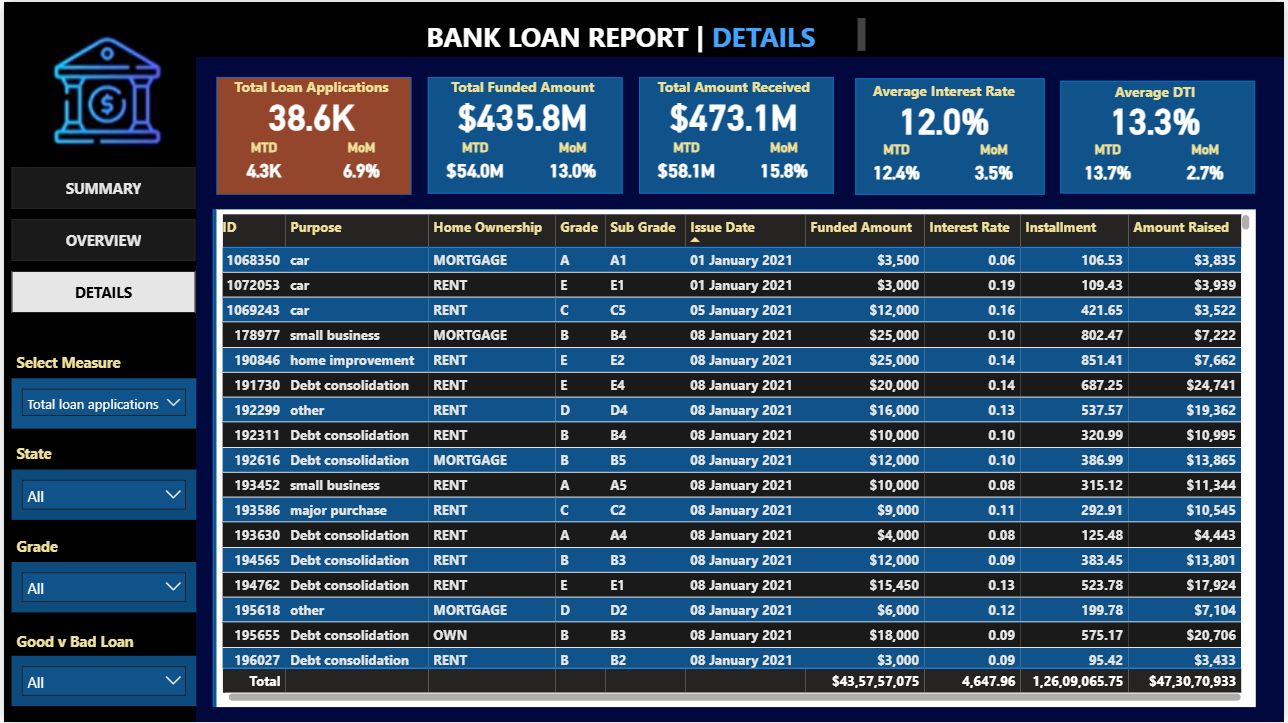

What the dashboard file says about the page in this screenshot:
{"tool":"powerbi","page":{"name":"DETAILS","canvas":[1280,720],"ordinal":2},"visuals":[{"type":"shape","box":[0,54.9,192,665.5],"z":0},{"type":"shape","box":[212.2,74.5,194.9,118],"z":0,"group":"g1"},{"type":"shape","box":[423.2,75,194.9,116.6],"z":0,"group":"g2"},{"type":"shape","box":[634.2,75,194.9,116.6],"z":0,"group":"g3"},{"type":"shape","box":[851.1,76.2,189.4,116.6],"z":0,"group":"g4"},{"type":"shape","box":[1056.2,79.8,194.9,112.7],"z":0,"group":"g5"},{"type":"shape","box":[0,0,1280.3,55],"z":1000},{"type":"card","fields":{"Values":["Bank_Loan_Data.Total_loan_applications"]},"box":[209.9,86.7,194.9,54.1],"z":1000,"group":"g1"},{"type":"card","fields":{"Values":["Bank_Loan_Data.Total Funded Amount"]},"box":[420.9,87,194.9,53.5],"z":1000,"group":"g2"},{"type":"card","fields":{"Values":["Bank_Loan_Data.Total Amount Raised"]},"box":[631.9,87,194.9,53.5],"z":1000,"group":"g3"},{"type":"card","fields":{"Values":["Bank_Loan_Data.Average Interest Rate"]},"box":[842.9,90.4,194.9,52.9],"z":1000,"group":"g4"},{"type":"card","fields":{"Values":["Bank_Loan_Data.Average DTI"]},"box":[1053.9,91.4,194.9,51.7],"z":1000,"group":"g5"},{"type":"textbox","box":[417.2,11,448.7,43.9],"z":2000},{"type":"textbox","box":[209.9,70,194.9,31.9],"z":2000,"group":"g1"},{"type":"textbox","box":[420.9,70.5,194.9,31.6],"z":2000,"group":"g2"},{"type":"textbox","box":[631.9,70.5,194.9,31.6],"z":2000,"group":"g3"},{"type":"textbox","box":[842.9,74.1,194.9,31.2],"z":2000,"group":"g4"},{"type":"textbox","box":[1053.9,75.5,194.9,30.5],"z":2000,"group":"g5"},{"type":"card","title":"MTD","fields":{"Values":["Bank_Loan_Data.MTD Funded Amount"]},"box":[436,137.7,70,49.4],"z":3000,"group":"g2"},{"type":"card","title":"MTD","fields":{"Values":["Bank_Loan_Data.MTD Amount Raised"]},"box":[647,137.7,70,49.4],"z":3000,"group":"g3"},{"type":"card","title":"MTD","fields":{"Values":["Bank_Loan_Data.MTD Loan Applications"]},"box":[225,138,70,50],"z":3000,"group":"g1"},{"type":"card","title":"MTD","fields":{"Values":["Bank_Loan_Data.MTD Average DTI"]},"box":[1069,140.4,70,47.7],"z":3000,"group":"g5"},{"type":"card","title":"MTD","fields":{"Values":["Bank_Loan_Data.MTD Average Interest Rate"]},"box":[858,140.6,70,48.8],"z":3000,"group":"g4"},{"type":"shape","box":[208.3,206.9,1043.1,497.2],"z":3000},{"type":"group","id":"g1","title":"Group 1","box":[209.9,70,197.6,122.1],"z":4000},{"type":"card","title":"MoM","fields":{"Values":["Bank_Loan_Data.MoM Funded Amount"]},"box":[533.4,137.7,70,49.4],"z":4000,"group":"g2"},{"type":"card","title":"MoM","fields":{"Values":["Bank_Loan_Data.MoM Amount Received"]},"box":[744.4,137.7,70,49.4],"z":4000,"group":"g3"},{"type":"card","title":"MoM","fields":{"Values":["Bank_Loan_Data.MoM Loan Applications"]},"box":[322.4,138,70,50],"z":4000,"group":"g1"},{"type":"card","title":"MoM","fields":{"Values":["Bank_Loan_Data.Mom Average DTI"]},"box":[1166.4,140.4,70,47.7],"z":4000,"group":"g5"},{"type":"card","title":"MoM","fields":{"Values":["Bank_Loan_Data.MoM Average Interest Rate"]},"box":[955.4,140.6,70,48.8],"z":4000,"group":"g4"},{"type":"group","id":"g2","title":"Group 1","box":[420.9,70.5,197.6,120.8],"z":5000},{"type":"group","id":"g3","title":"Group 1","box":[631.9,70.5,197.6,120.8],"z":6000},{"type":"group","id":"g4","title":"Group 1","box":[842.9,74.1,197.6,119.4],"z":7000},{"type":"group","id":"g5","title":"Group 1","box":[1053.9,75.5,197.6,116.6],"z":8000},{"type":"slicer","fields":{"Values":["Bank_Loan_Data.address_state"]},"box":[6.9,468.1,184.7,50],"z":9000},{"type":"slicer","fields":{"Values":["Bank_Loan_Data.grade"]},"box":[6.9,559.7,184.7,50],"z":10000},{"type":"slicer","fields":{"Values":["Bank_Loan_Data.Good v Bad Loan Status","Bank_Loan_Data.purpose"]},"box":[6.9,654.2,184.7,50],"z":11000},{"type":"textbox","box":[6.9,436.1,156.9,31.9],"z":12000},{"type":"textbox","box":[6.9,529.2,156.9,30.6],"z":13000},{"type":"textbox","box":[6.9,623.6,156.9,30.6],"z":14000},{"type":"slicer","fields":{"Values":["Select Parameter.Select Parameter"]},"box":[6.9,376.4,184.7,50],"z":16000},{"type":"textbox","box":[6.9,344.4,156.9,31.9],"z":17000},{"type":"tableEx","fields":{"Values":["Bank_Loan_Data.id","Bank_Loan_Data.purpose","Bank_Loan_Data.home_ownership","Bank_Loan_Data.grade","Bank_Loan_Data.sub_grade","Bank_Loan_Data.issue_date","Bank_Loan_Data.Total Funded Amount","Sum(Bank_Loan_Data.int_rate)","Sum(Bank_Loan_Data.installment)","Bank_Loan_Data.Total Amount Raised"]},"box":[212.5,206.9,1038.9,497.2],"z":17001},{"type":"image","box":[10,10,184.7,162.5],"z":17002},{"type":"pageNavigator","box":[6.9,165.3,184.7,147.2],"z":17003}]}

Visuals, with their boxes in screenshot pixels (x1, y1, x2, y2), scaled from the page's 1280x720 canvas onto the 1288x723 screenshot:
shape: (left=0, top=55, right=193, bottom=722)
shape: (left=214, top=75, right=410, bottom=193)
shape: (left=426, top=75, right=622, bottom=192)
shape: (left=638, top=75, right=834, bottom=192)
shape: (left=856, top=77, right=1047, bottom=194)
shape: (left=1063, top=80, right=1259, bottom=193)
shape: (left=0, top=0, right=1287, bottom=55)
card - Bank_Loan_Data.Total_loan_applications: (left=211, top=87, right=407, bottom=141)
card - Bank_Loan_Data.Total Funded Amount: (left=424, top=87, right=620, bottom=141)
card - Bank_Loan_Data.Total Amount Raised: (left=636, top=87, right=832, bottom=141)
card - Bank_Loan_Data.Average Interest Rate: (left=848, top=91, right=1044, bottom=144)
card - Bank_Loan_Data.Average DTI: (left=1060, top=92, right=1257, bottom=144)
textbox: (left=420, top=11, right=871, bottom=55)
textbox: (left=211, top=70, right=407, bottom=102)
textbox: (left=424, top=71, right=620, bottom=103)
textbox: (left=636, top=71, right=832, bottom=103)
textbox: (left=848, top=74, right=1044, bottom=106)
textbox: (left=1060, top=76, right=1257, bottom=106)
"MTD" card: (left=439, top=138, right=509, bottom=188)
"MTD" card: (left=651, top=138, right=721, bottom=188)
"MTD" card: (left=226, top=139, right=297, bottom=189)
"MTD" card: (left=1076, top=141, right=1146, bottom=189)
"MTD" card: (left=863, top=141, right=934, bottom=190)
shape: (left=210, top=208, right=1259, bottom=707)
"Group 1" group: (left=211, top=70, right=410, bottom=193)
"MoM" card: (left=537, top=138, right=607, bottom=188)
"MoM" card: (left=749, top=138, right=819, bottom=188)
"MoM" card: (left=324, top=139, right=395, bottom=189)
"MoM" card: (left=1174, top=141, right=1244, bottom=189)
"MoM" card: (left=961, top=141, right=1032, bottom=190)
"Group 1" group: (left=424, top=71, right=622, bottom=192)
"Group 1" group: (left=636, top=71, right=835, bottom=192)
"Group 1" group: (left=848, top=74, right=1047, bottom=194)
"Group 1" group: (left=1060, top=76, right=1259, bottom=193)
slicer - Bank_Loan_Data.address_state: (left=7, top=470, right=193, bottom=520)
slicer - Bank_Loan_Data.grade: (left=7, top=562, right=193, bottom=612)
slicer - Bank_Loan_Data.Good v Bad Loan Status x Bank_Loan_Data.purpose: (left=7, top=657, right=193, bottom=707)
textbox: (left=7, top=438, right=165, bottom=470)
textbox: (left=7, top=531, right=165, bottom=562)
textbox: (left=7, top=626, right=165, bottom=657)
slicer - Select Parameter.Select Parameter: (left=7, top=378, right=193, bottom=428)
textbox: (left=7, top=346, right=165, bottom=378)
tableEx - Bank_Loan_Data.id x Bank_Loan_Data.purpose: (left=214, top=208, right=1259, bottom=707)
image: (left=10, top=10, right=196, bottom=173)
pageNavigator: (left=7, top=166, right=193, bottom=314)
